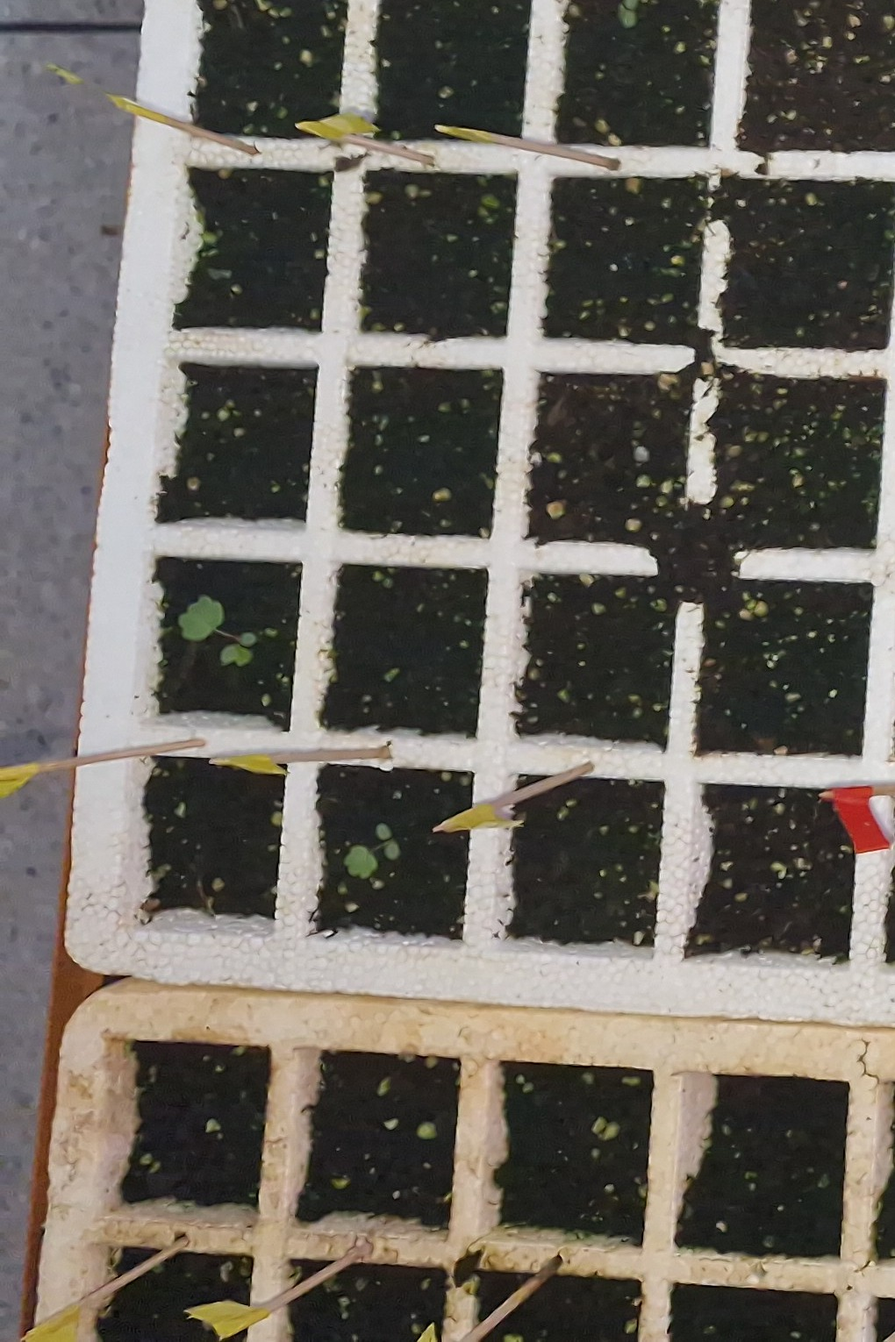Folha: (180, 596, 223, 640), (345, 846, 377, 879), (222, 644, 251, 666), (377, 824, 391, 840), (385, 843, 399, 859), (241, 633, 256, 647)
Germinacao: (179, 597, 257, 667), (344, 823, 398, 879)
